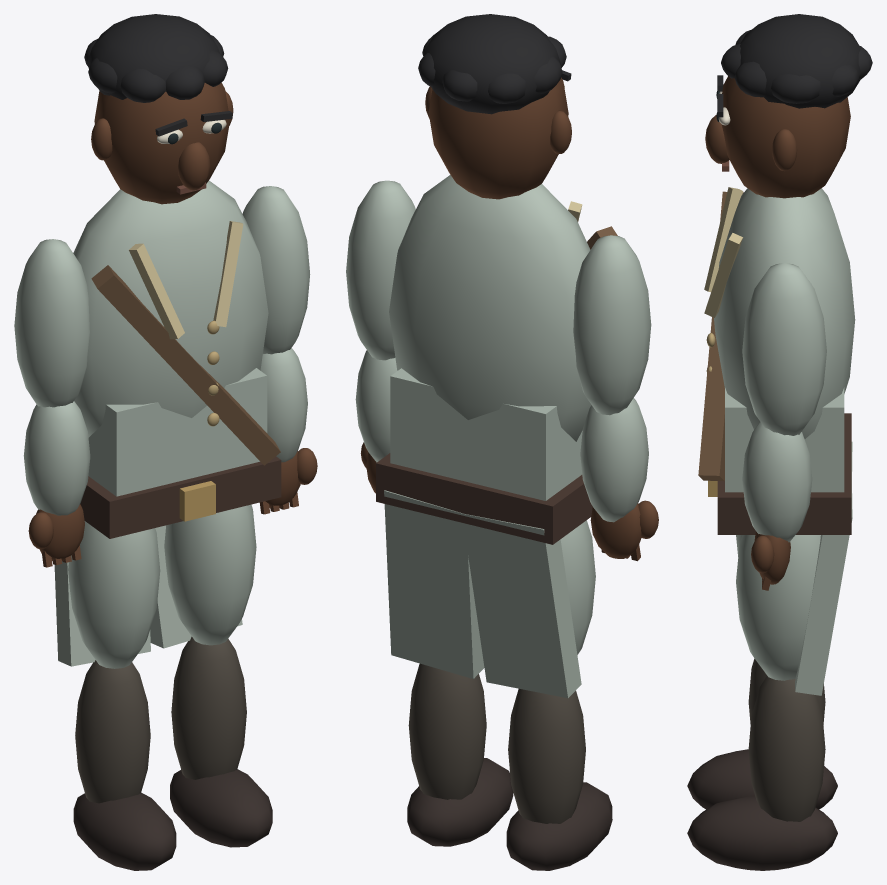
The model's file is edgedancer.glb.
The picture shows the model from 3 angles, left to right: view 1: azimuth 30°, elevation 25°; view 2: azimuth 150°, elevation 25°; view 3: azimuth 270°, elevation 25°; orthographic projection. The views are drawn at different scales.
Parts seen in each view (by area): view 1: radiant_3_stone, shin_and_foot_stone (×2), face_and_hair_stone, thigh_stone (×2), upper_arm_stone (×2), forearm_and_fingers_stone (×2), split_cloth_stone, radiant_3_metal; view 2: radiant_3_stone, split_cloth_stone, shin_and_foot_stone (×2), face_and_hair_stone, upper_arm_stone (×2), forearm_and_fingers_stone (×2), thigh_stone; view 3: radiant_3_stone, face_and_hair_stone, shin_and_foot_stone (×2), upper_arm_stone, forearm_and_fingers_stone, thigh_stone, split_cloth_stone.
Part boxes in pixels (bbox=[...]): radiant_3_stone: bbox=[73, 180, 281, 538]; shin_and_foot_stone (×2): bbox=[73, 636, 272, 870]; face_and_hair_stone: bbox=[84, 14, 233, 204]; thigh_stone (×2): bbox=[68, 504, 256, 668]; upper_arm_stone (×2): bbox=[14, 186, 310, 407]; forearm_and_fingers_stone (×2): bbox=[23, 348, 317, 567]; split_cloth_stone: bbox=[54, 525, 242, 666]; radiant_3_metal: bbox=[179, 320, 219, 521]; radiant_3_stone: bbox=[376, 175, 617, 544]; split_cloth_stone: bbox=[384, 490, 581, 698]; shin_and_foot_stone (×2): bbox=[407, 663, 612, 870]; face_and_hair_stone: bbox=[418, 14, 571, 199]; upper_arm_stone (×2): bbox=[346, 180, 651, 415]; forearm_and_fingers_stone (×2): bbox=[355, 350, 658, 561]; thigh_stone: bbox=[560, 520, 595, 654]; radiant_3_stone: bbox=[698, 187, 855, 534]; face_and_hair_stone: bbox=[705, 14, 872, 198]; shin_and_foot_stone (×2): bbox=[687, 658, 837, 870]; upper_arm_stone: bbox=[742, 263, 826, 435]; forearm_and_fingers_stone: bbox=[742, 422, 812, 590]; thigh_stone: bbox=[736, 535, 820, 680]; split_cloth_stone: bbox=[795, 441, 852, 695].
Size of the model in its own units: 0.684 by 1.86 by 0.381.
